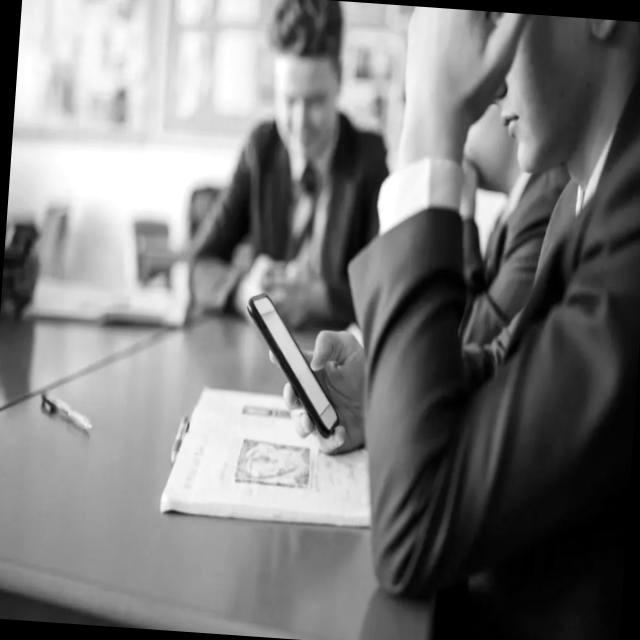phone: (237, 290, 348, 440)
